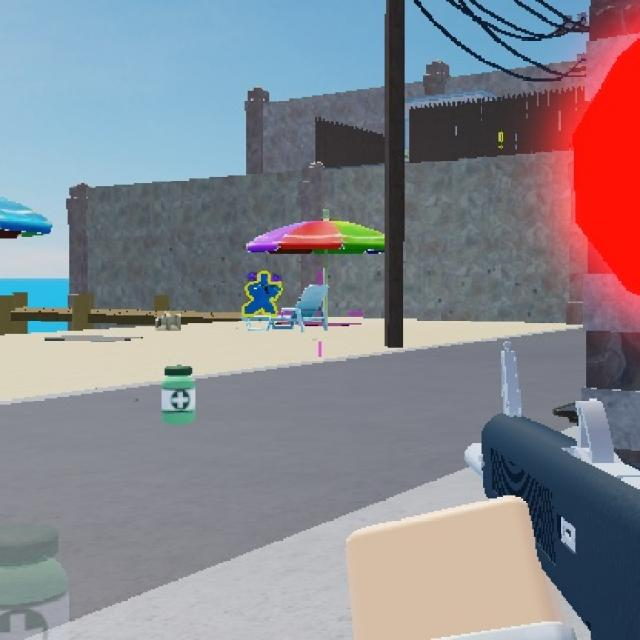player: (240, 266, 286, 322)
